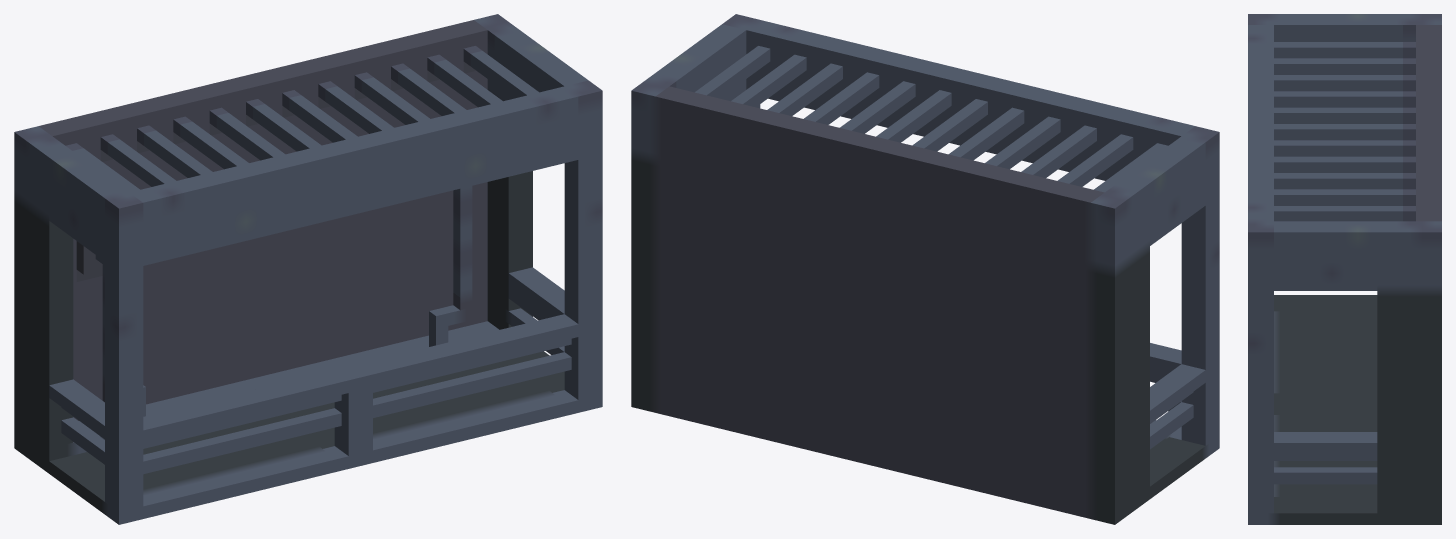
The model's file is BuildingBlock-12.fbx.
3 renders of one model, left to right at view 1: azimuth 30°, elevation 25°; view 2: azimuth 150°, elevation 25°; view 3: azimuth 270°, elevation 25°, orthographic. The views are drawn at different scales.
Parts seen in each view (by area): view 1: BuildingBlock_12; view 2: BuildingBlock_12; view 3: BuildingBlock_12.
Part boxes in pixels (bbox=[...]): BuildingBlock_12: bbox=[14, 14, 602, 524]; BuildingBlock_12: bbox=[631, 14, 1219, 524]; BuildingBlock_12: bbox=[1248, 14, 1441, 524].
Bounding box in the file's own units: 400 × 250 × 150.
1 material, 1 textured.
